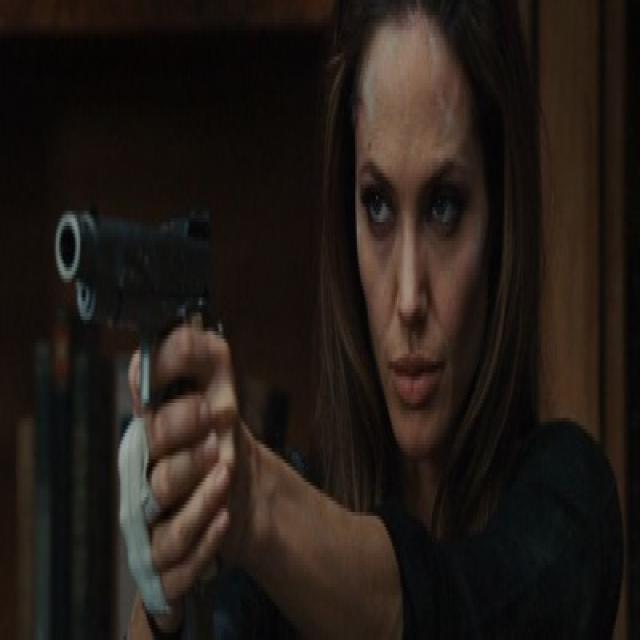weapons: (42, 170, 235, 572)
